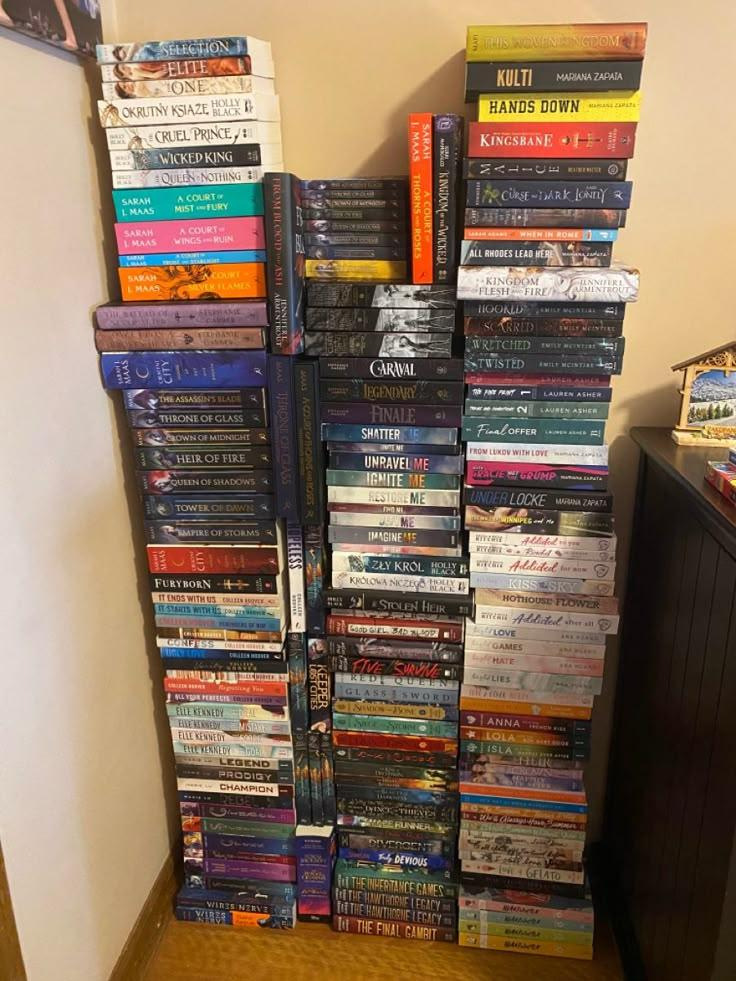book: (262, 172, 304, 352), (99, 348, 269, 391), (464, 119, 640, 158), (463, 21, 648, 58), (105, 121, 282, 159), (112, 183, 271, 225), (117, 262, 267, 302), (102, 93, 278, 126), (432, 115, 465, 289), (462, 179, 634, 211), (469, 62, 646, 93), (98, 300, 268, 332), (98, 35, 271, 66), (100, 73, 277, 103), (474, 92, 644, 123), (109, 142, 267, 175), (463, 618, 618, 650), (332, 676, 466, 713), (97, 325, 267, 354), (463, 533, 618, 564), (96, 58, 272, 85), (109, 163, 272, 192), (462, 553, 614, 584), (141, 494, 279, 528), (464, 585, 617, 615), (408, 113, 435, 283), (145, 544, 281, 577), (461, 419, 615, 447), (464, 156, 635, 181), (325, 615, 471, 644), (460, 242, 622, 268), (461, 351, 622, 377), (317, 377, 466, 405), (143, 520, 281, 550), (320, 402, 467, 430), (462, 465, 614, 492), (453, 778, 589, 808), (463, 487, 612, 514), (456, 696, 598, 724), (462, 316, 627, 340), (453, 801, 589, 830), (463, 443, 614, 469), (315, 356, 465, 382), (123, 387, 270, 413), (168, 722, 294, 752), (327, 553, 472, 579), (462, 299, 625, 322), (135, 446, 273, 473), (116, 247, 271, 271), (331, 573, 474, 599), (456, 737, 591, 764), (462, 383, 619, 406), (461, 208, 624, 230), (330, 729, 462, 756), (463, 336, 623, 358), (326, 452, 467, 476), (139, 471, 274, 496), (321, 425, 465, 448), (161, 670, 292, 695), (329, 527, 464, 551), (459, 226, 621, 246), (326, 468, 465, 491), (328, 485, 466, 508), (151, 602, 288, 625), (329, 510, 465, 533), (130, 408, 271, 430), (166, 701, 294, 725), (133, 427, 271, 448), (156, 634, 287, 656), (299, 203, 410, 224), (299, 231, 409, 251), (301, 186, 413, 204), (299, 177, 409, 193)
